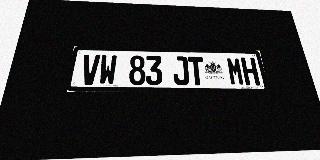3: (146, 56, 162, 85)
8: (129, 55, 145, 85)
H: (241, 57, 260, 85)
J: (172, 56, 189, 85)
M: (226, 57, 245, 85)
T: (188, 56, 206, 85)
V: (80, 54, 100, 85)
W: (98, 55, 117, 85)
